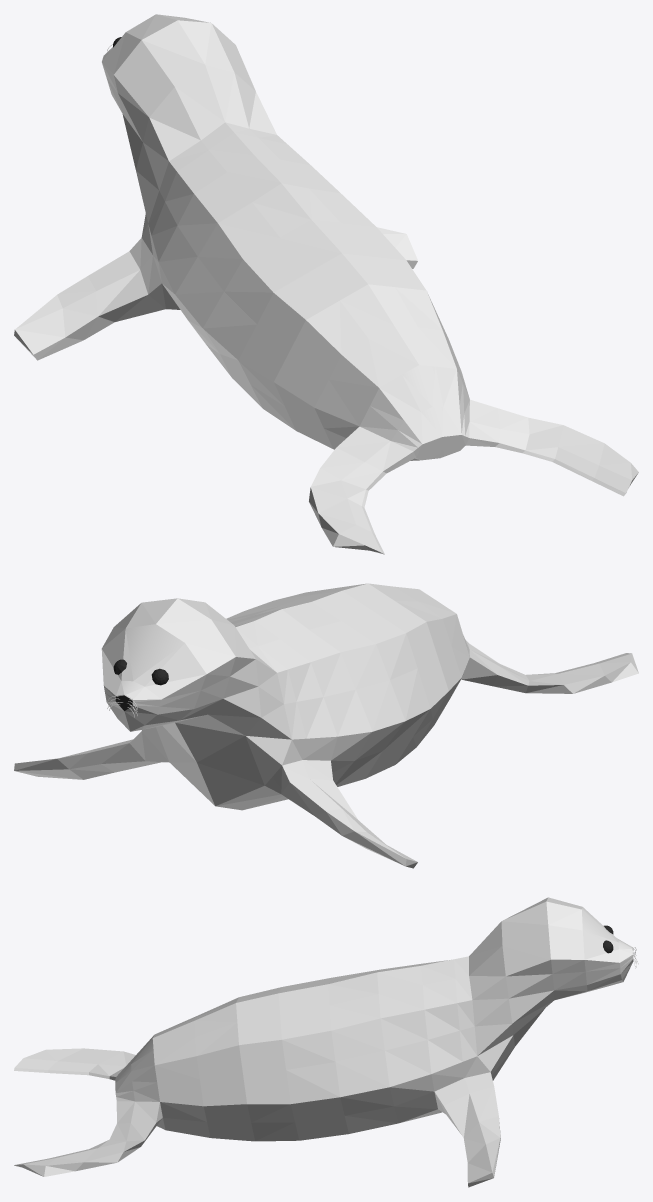
The model's file is seal.glb.
3 views of the same model, one above another, from view 1: azimuth 30°, elevation 25°; view 2: azimuth 150°, elevation 25°; view 3: azimuth 270°, elevation 25° (orthographic). The views are drawn at different scales.
Parts seen in each view (by area): view 1: Seal_geo; view 2: Seal_geo; view 3: Seal_geo.
Boxes of the visible parts, <box> form: Seal_geo: <box>14,14,638,554</box>; Seal_geo: <box>14,583,638,868</box>; Seal_geo: <box>14,897,638,1187</box>.
Size of the model in its own units: 0.594 by 0.4055 by 1.01.
1 material, 1 textured.
